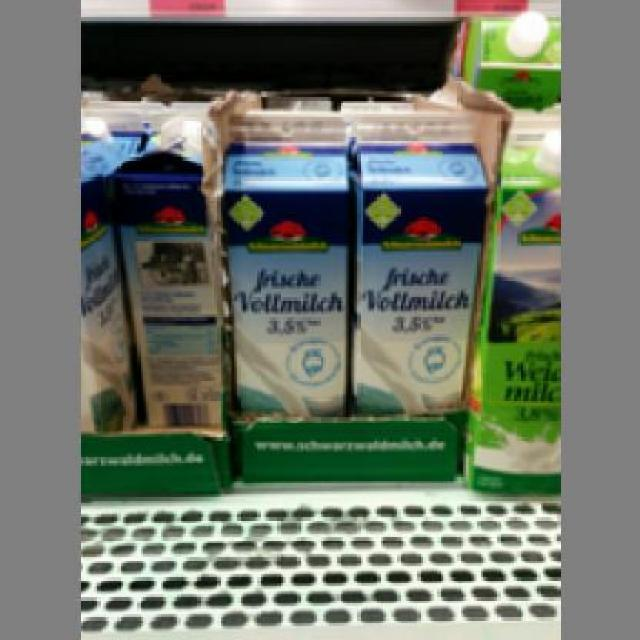Milk: (346, 114, 486, 420), (226, 134, 343, 426), (117, 120, 223, 420)
